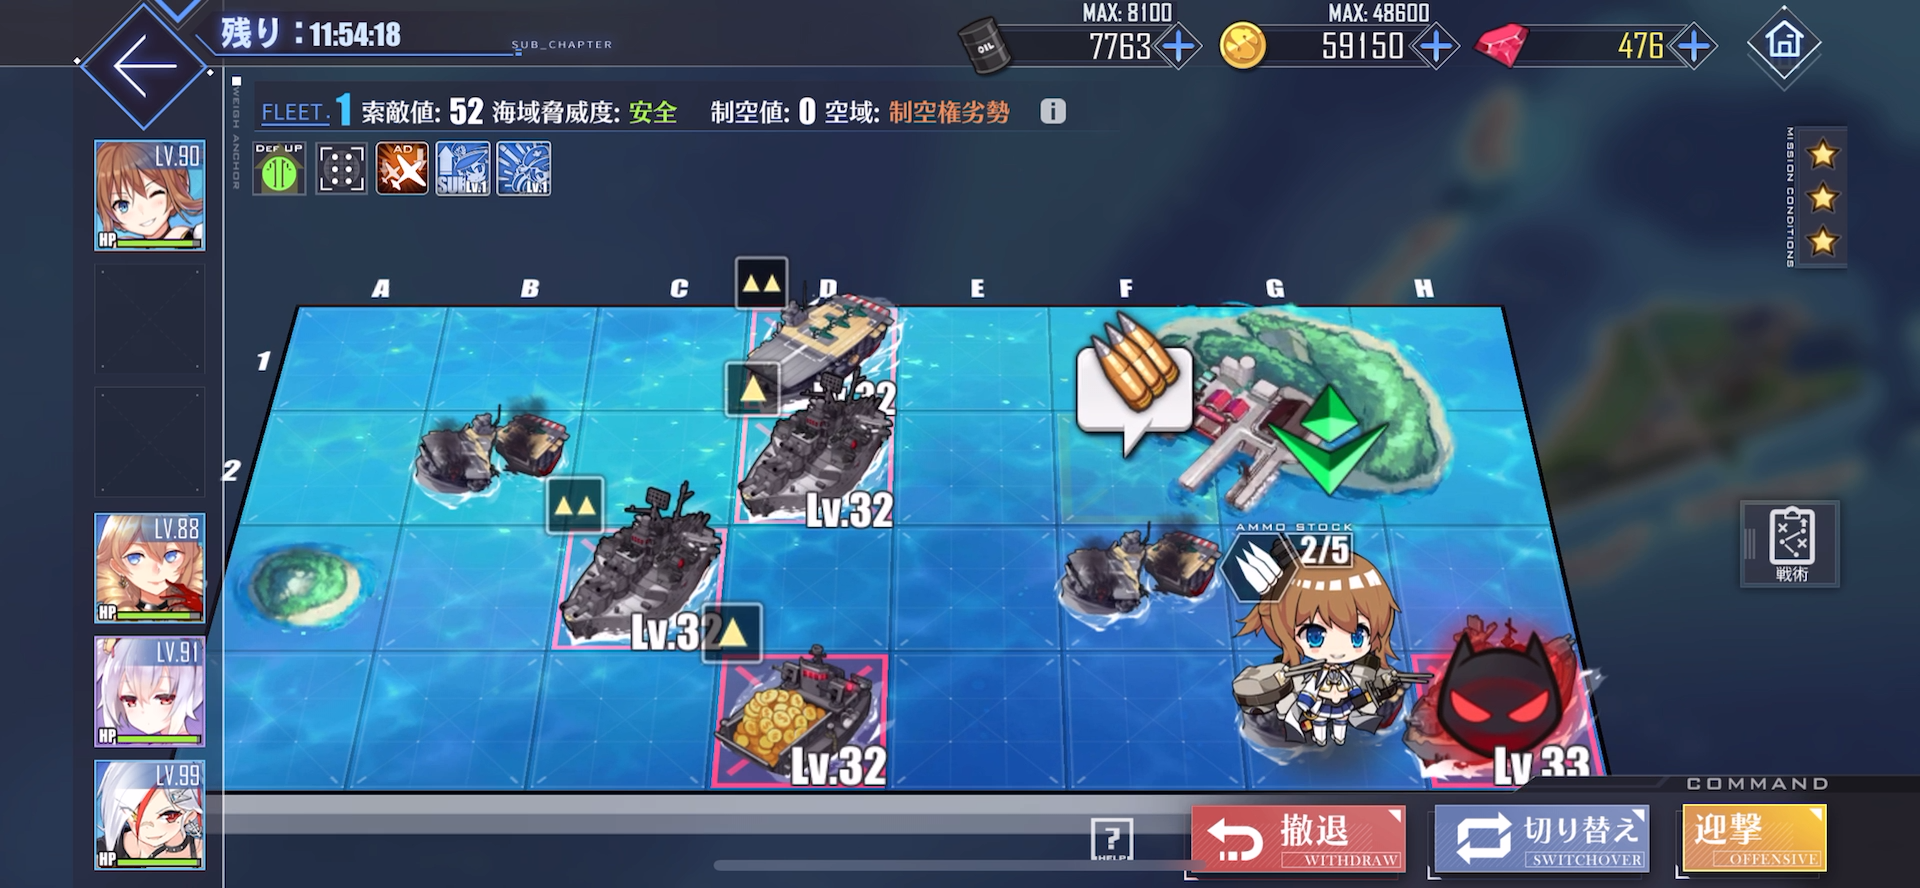boss: (1411, 610, 1600, 774)
